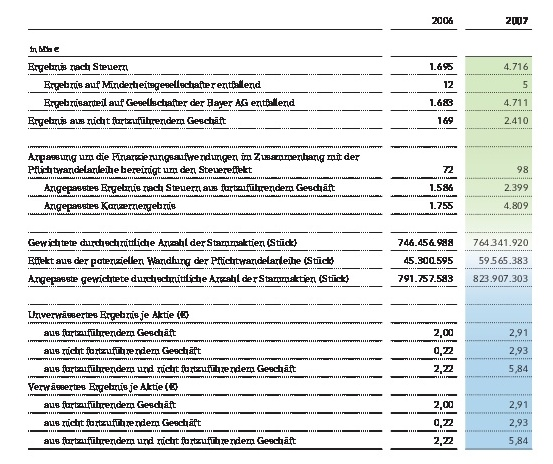table: (0, 0, 553, 464)
